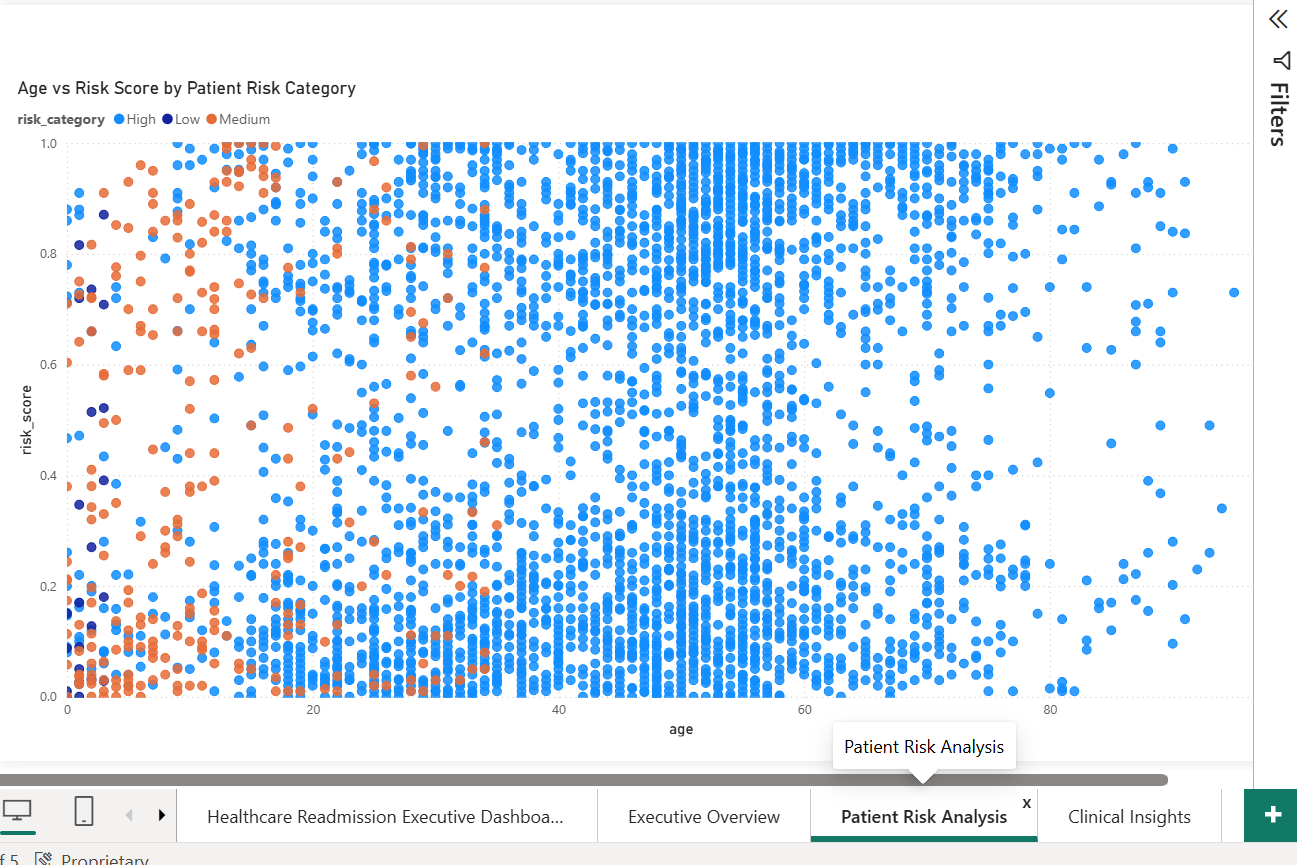

The page's visual inventory and layout, read from the dashboard file:
{"tool":"powerbi","page":{"name":"Patient Risk Analysis","canvas":[1280,720],"ordinal":2},"visuals":[{"type":"scatterChart","title":"Age vs Risk Score by Patient Risk Category","fields":{"X":["ehr_ml_predictions.age"],"Y":["ehr_ml_predictions.risk_score"],"Series":["ehr_ml_predictions.risk_category"]},"box":[12.1,68.1,1237.1,632.9],"z":0}]}

Visuals, with their boxes on the page's 1280x720 design canvas (x1, y1, x2, y2). These are canvas units, not pixel positions in the 1297x865 screenshot, which may show the page scaled, cropped or inside an application window:
"Age vs Risk Score by Patient Risk Category" scatterChart: <bbox>12, 68, 1249, 701</bbox>
